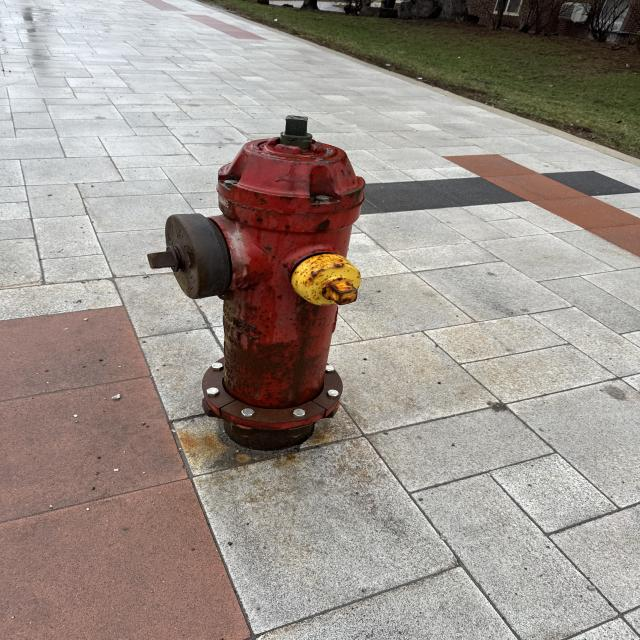Fire hydrant: (146, 114, 367, 452)
